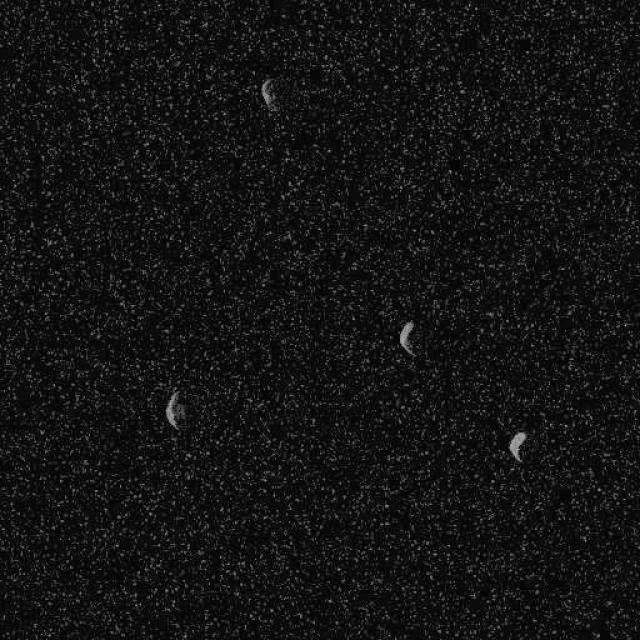D2: (164, 389, 186, 431), (398, 320, 417, 358), (259, 78, 279, 112), (508, 430, 528, 462)
